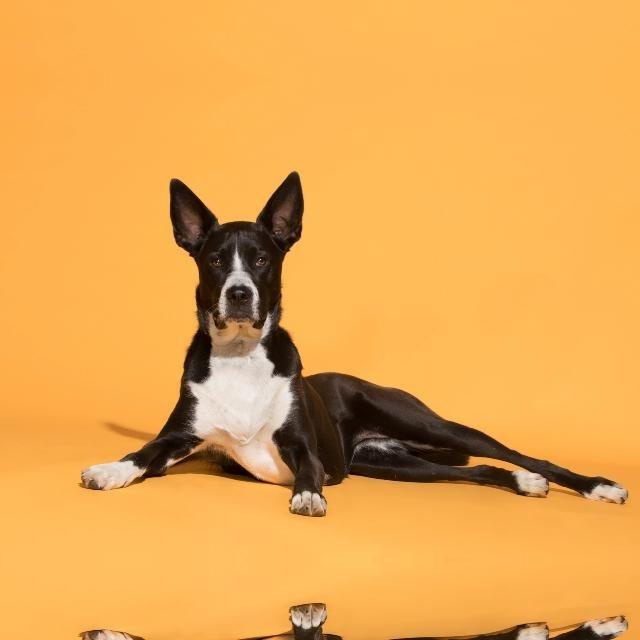dog: (87, 158, 578, 544), (87, 575, 578, 640), (87, 0, 578, 2)
